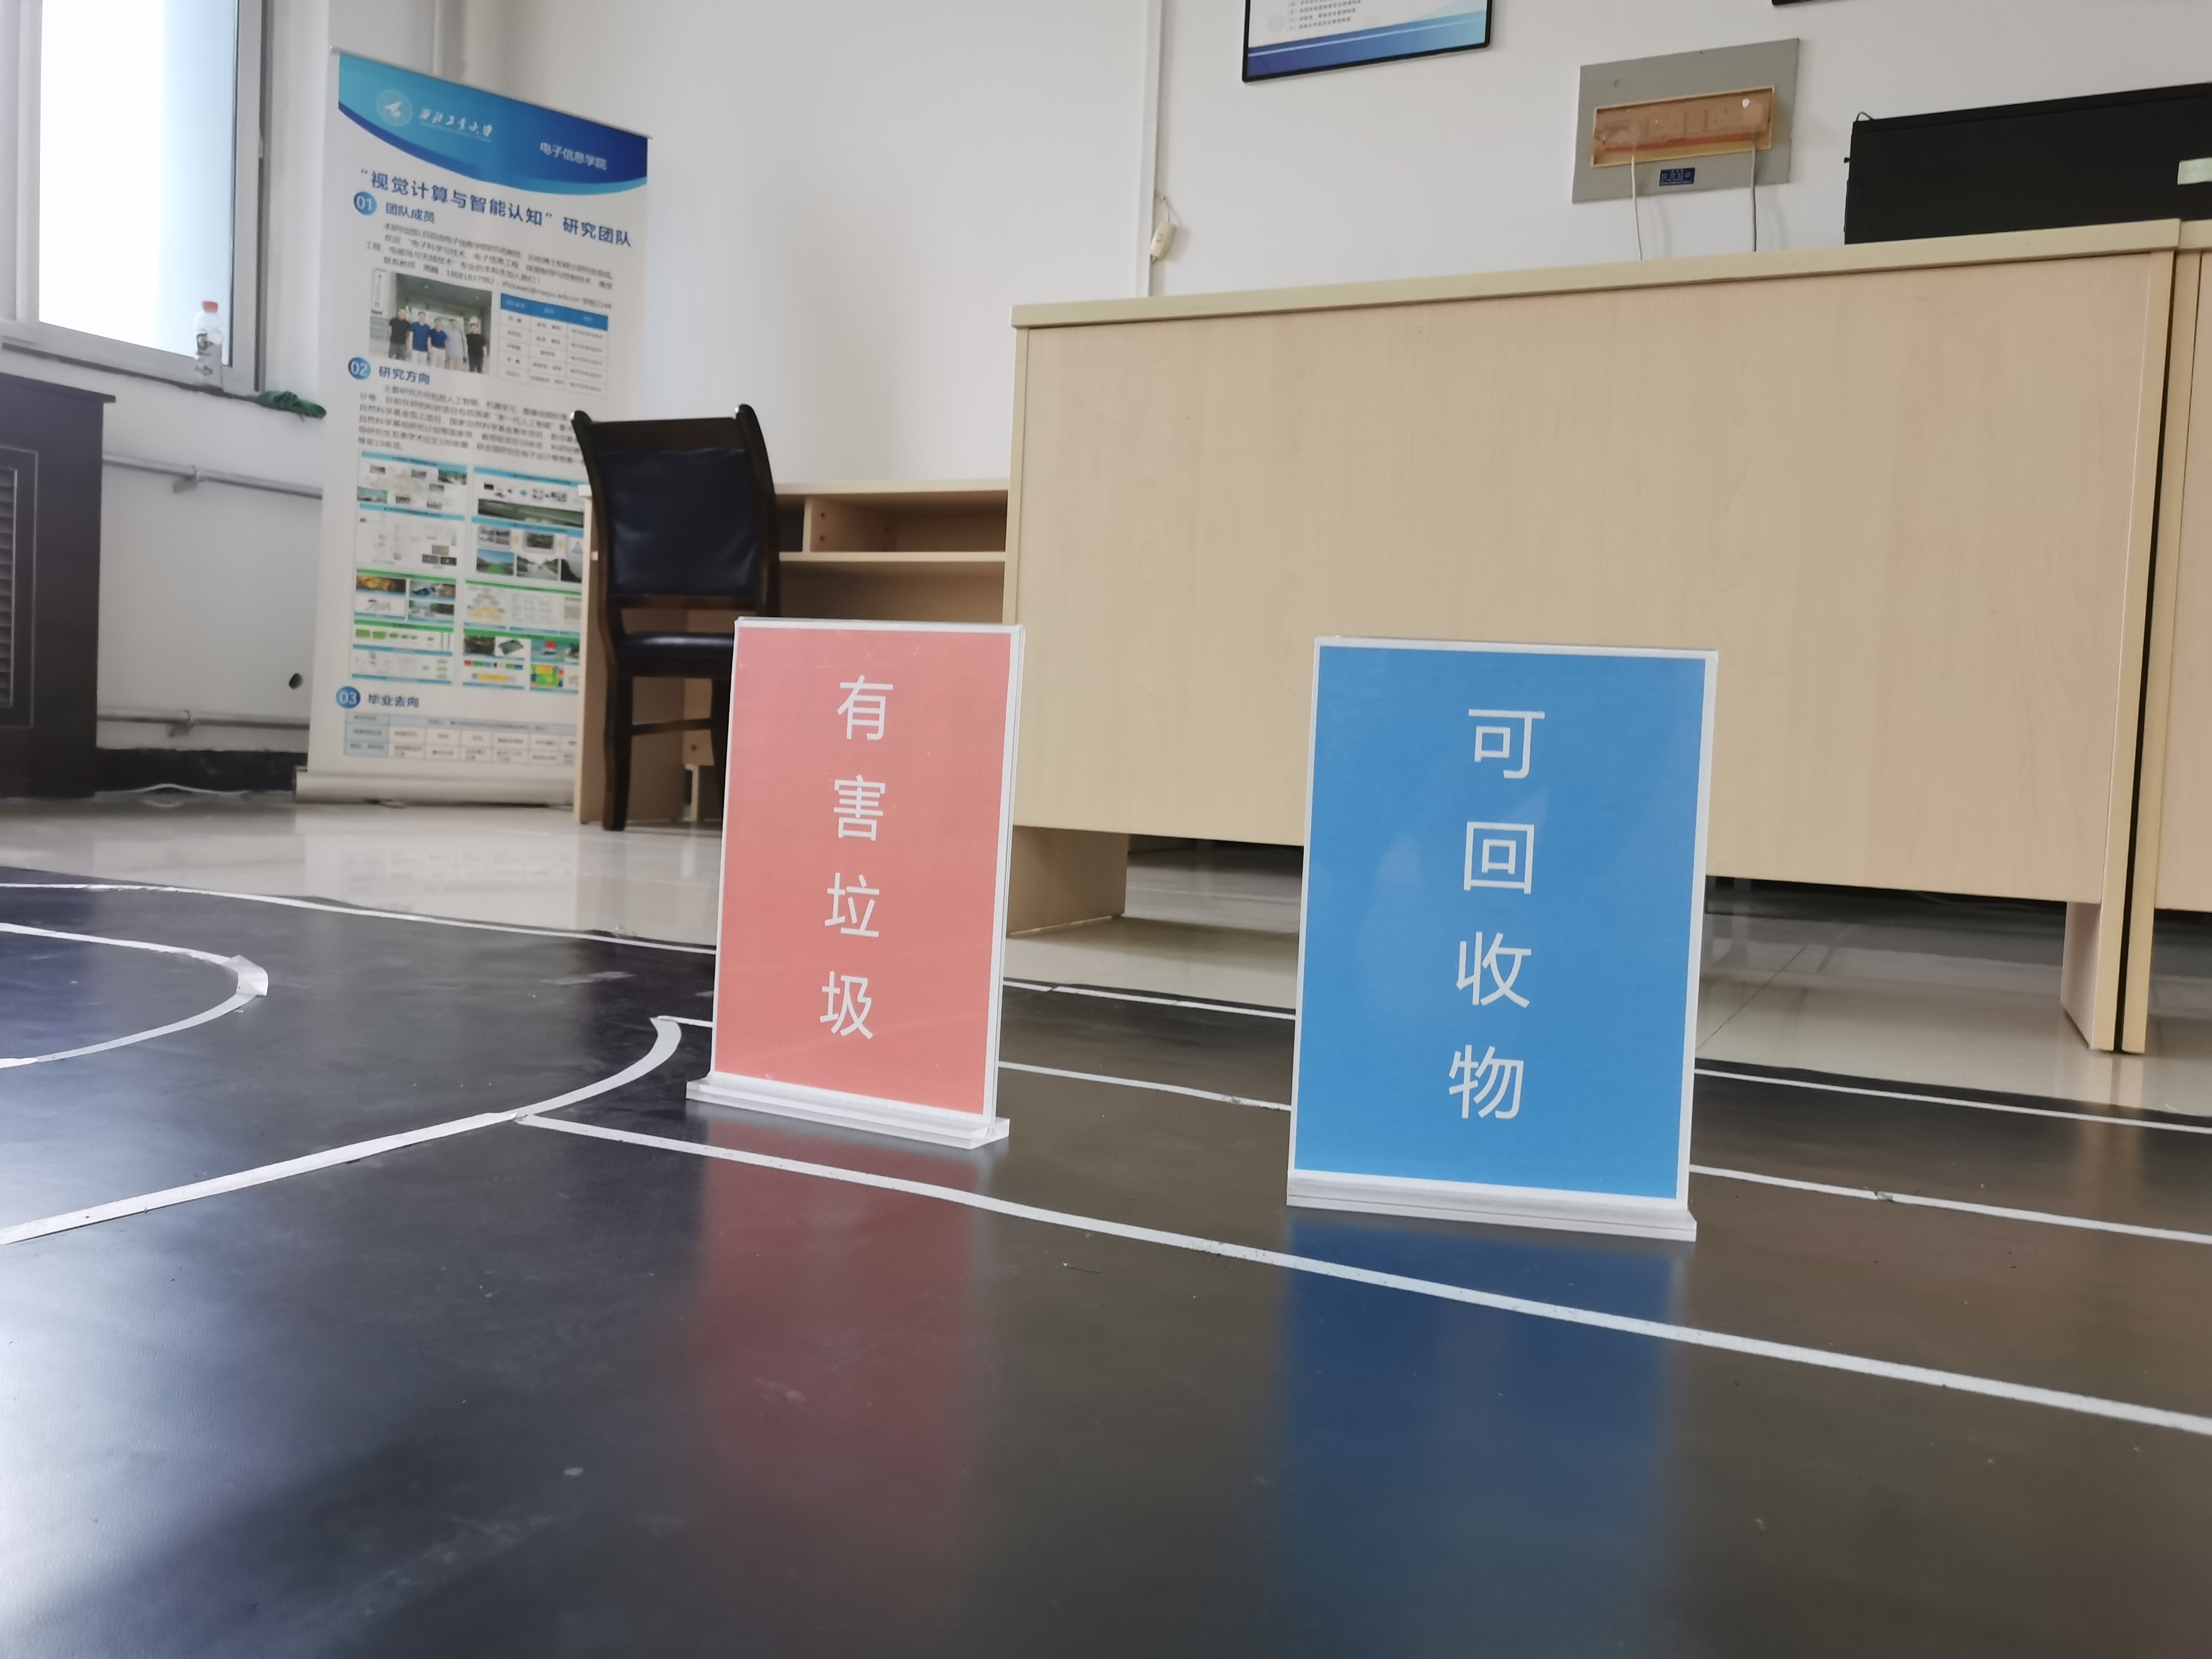blue: (1320, 653, 1674, 1164)
red: (742, 643, 981, 1073)
